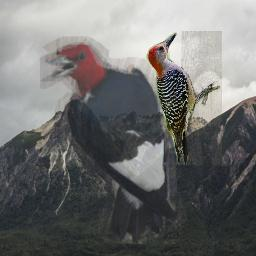Woodpecker: (40, 34, 188, 244), (143, 31, 222, 165)
